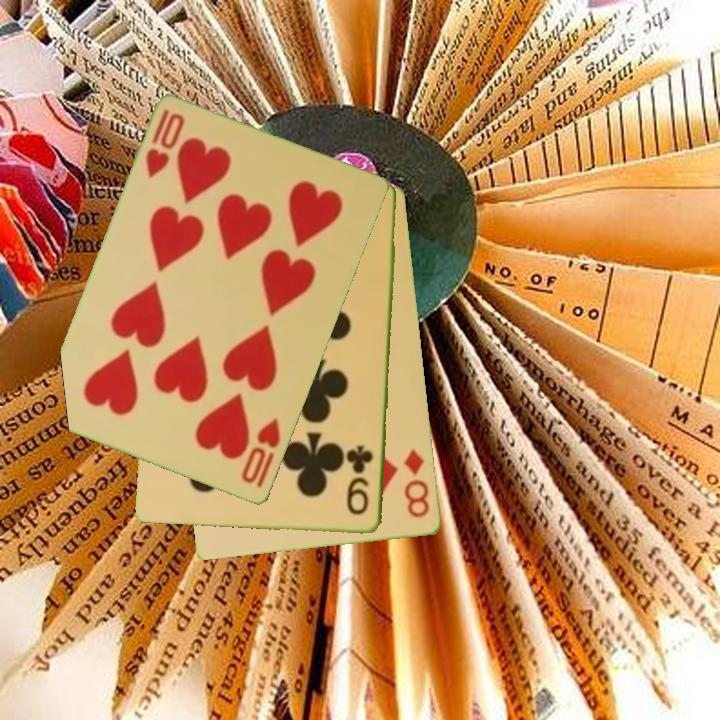10h: (142, 106, 188, 182), (238, 415, 284, 487)
8d: (401, 446, 433, 522)
9c: (345, 443, 377, 518)
